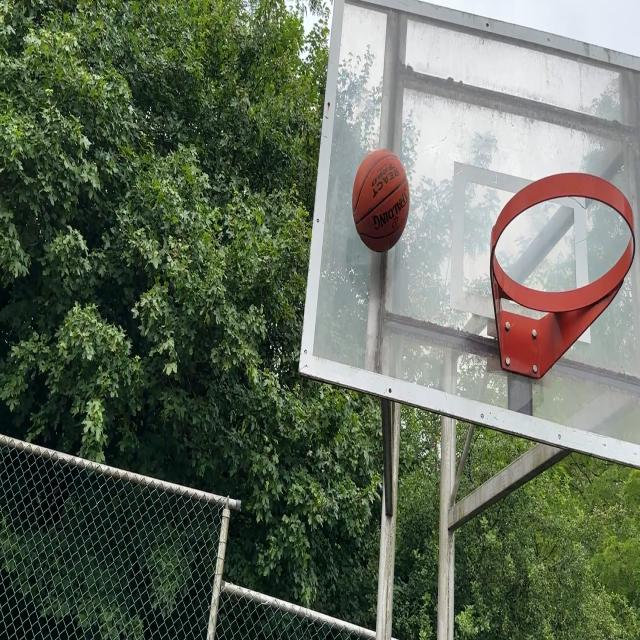rebound_hit: (350, 150, 410, 254)
